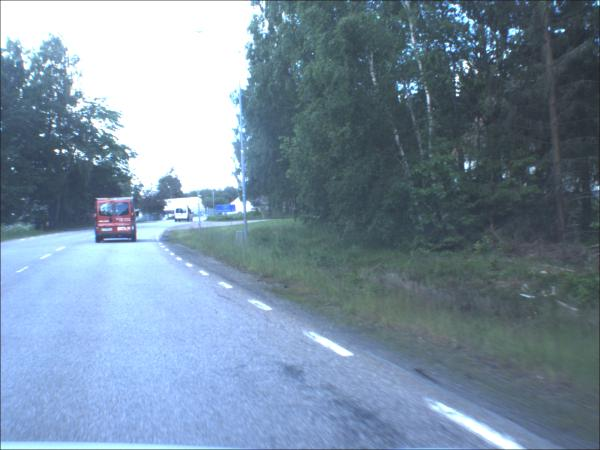PRIORITY_ROAD: (197, 199, 204, 205)
